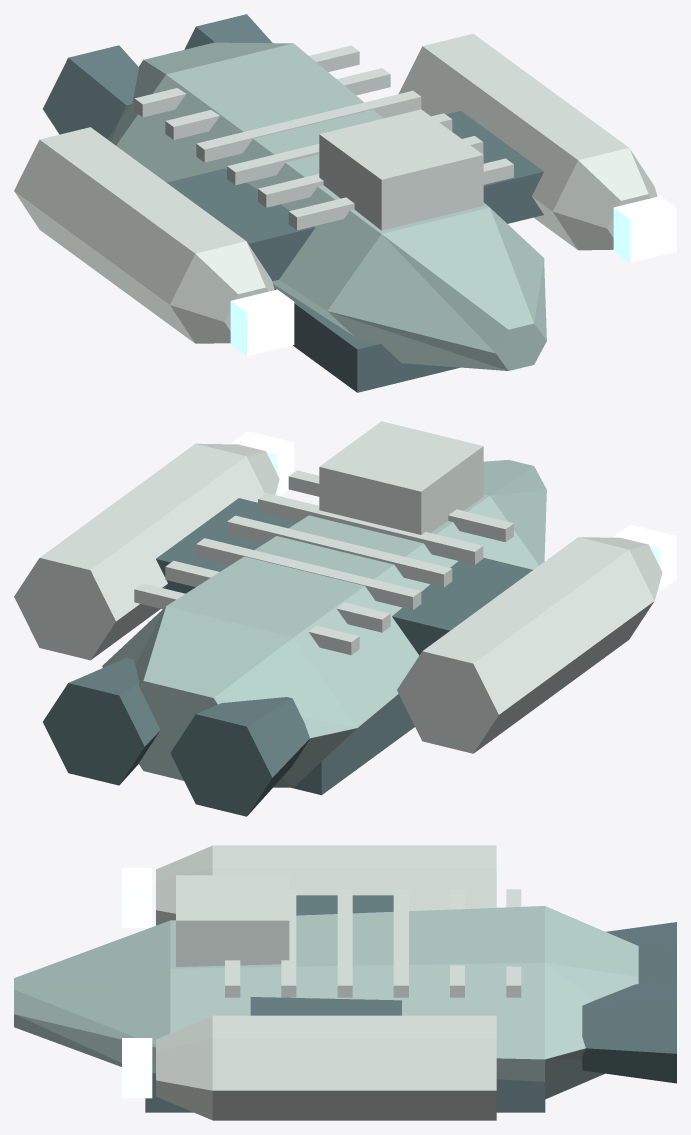
3 views of the same model, one above another, from view 1: azimuth 30°, elevation 25°; view 2: azimuth 150°, elevation 25°; view 3: azimuth 270°, elevation 25° (orthographic). The views are drawn at different scales.
Size of the model in its own units: 5.34 by 2.01 by 6.93.
